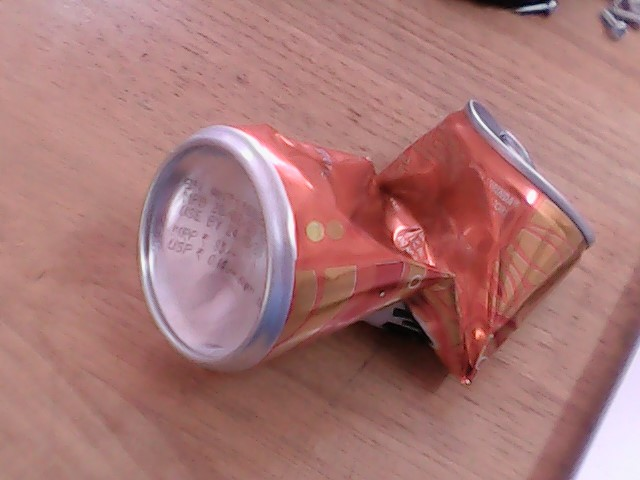Metal: (118, 128, 640, 333)
